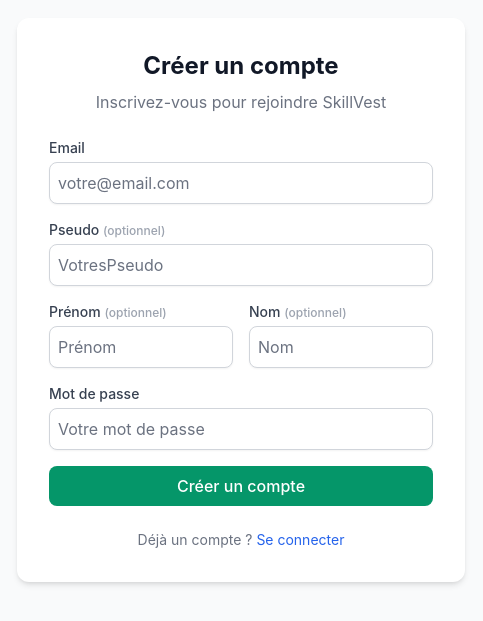
Test: Signup Page › should show error when signup fails
Type "existing@test.com" into the field with placeholder "votre@email.com" at {"x": 241, "y": 183}, box [49,162,433,204]
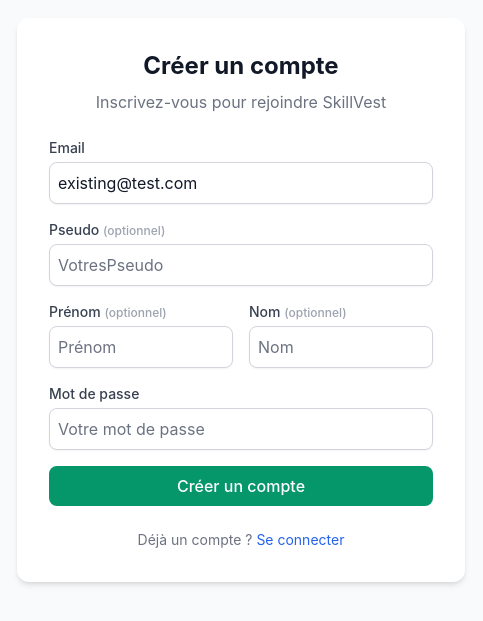
Type "password123" into the password field with placeholder "Votre mot de passe" at {"x": 241, "y": 429}, box [49,408,433,450]
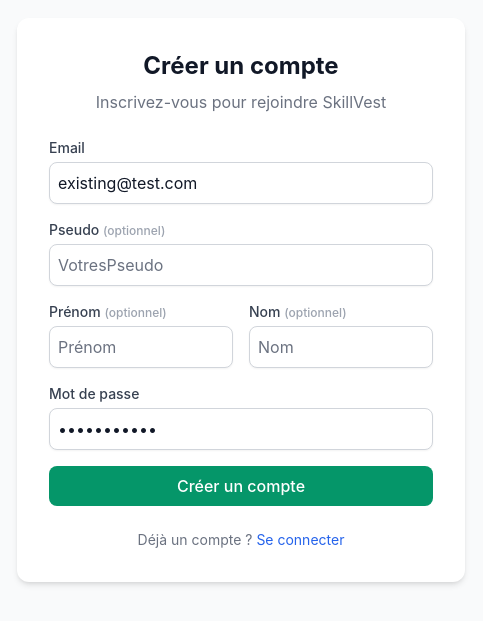
Click the button "Créer un compte" at {"x": 241, "y": 486}, box [49,466,433,506]
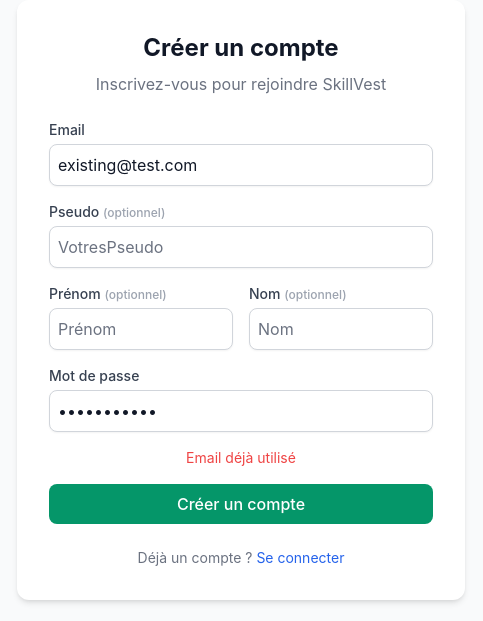
Check: the text "Email déjà utilisé" is shown, box [186,449,296,466]
